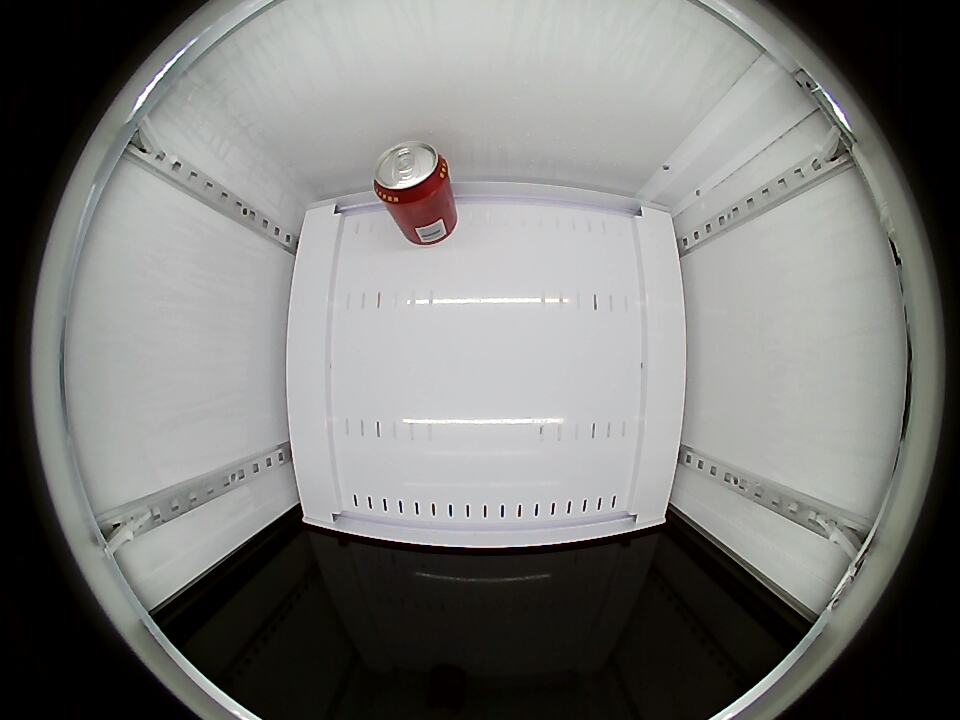wanglaoji-c: (373, 141, 450, 205)
